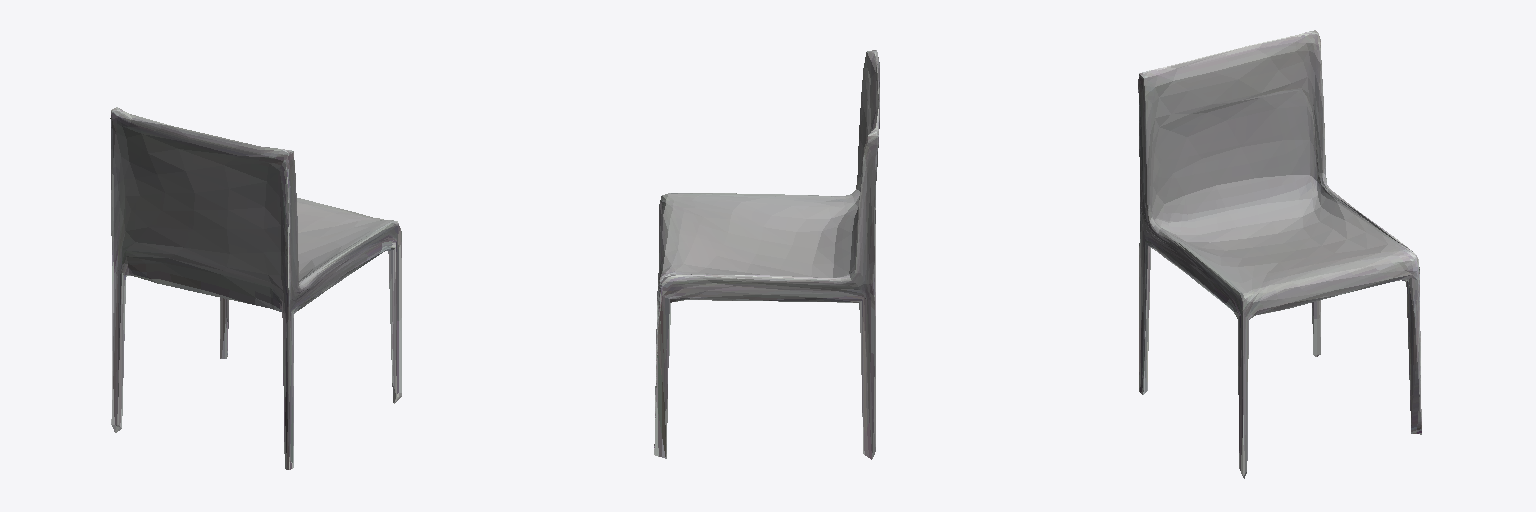
3 renders of one model, left to right at view 1: azimuth 30°, elevation 25°; view 2: azimuth 150°, elevation 25°; view 3: azimuth 270°, elevation 25°, orthographic.
Size of the model in its own units: 0.8079 by 1 by 0.778.
1 materials, 1 textured.